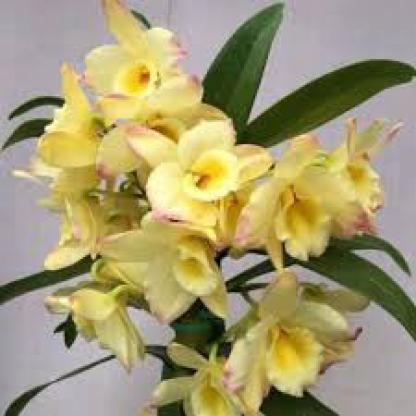ANGGREK: (46, 14, 375, 404)
